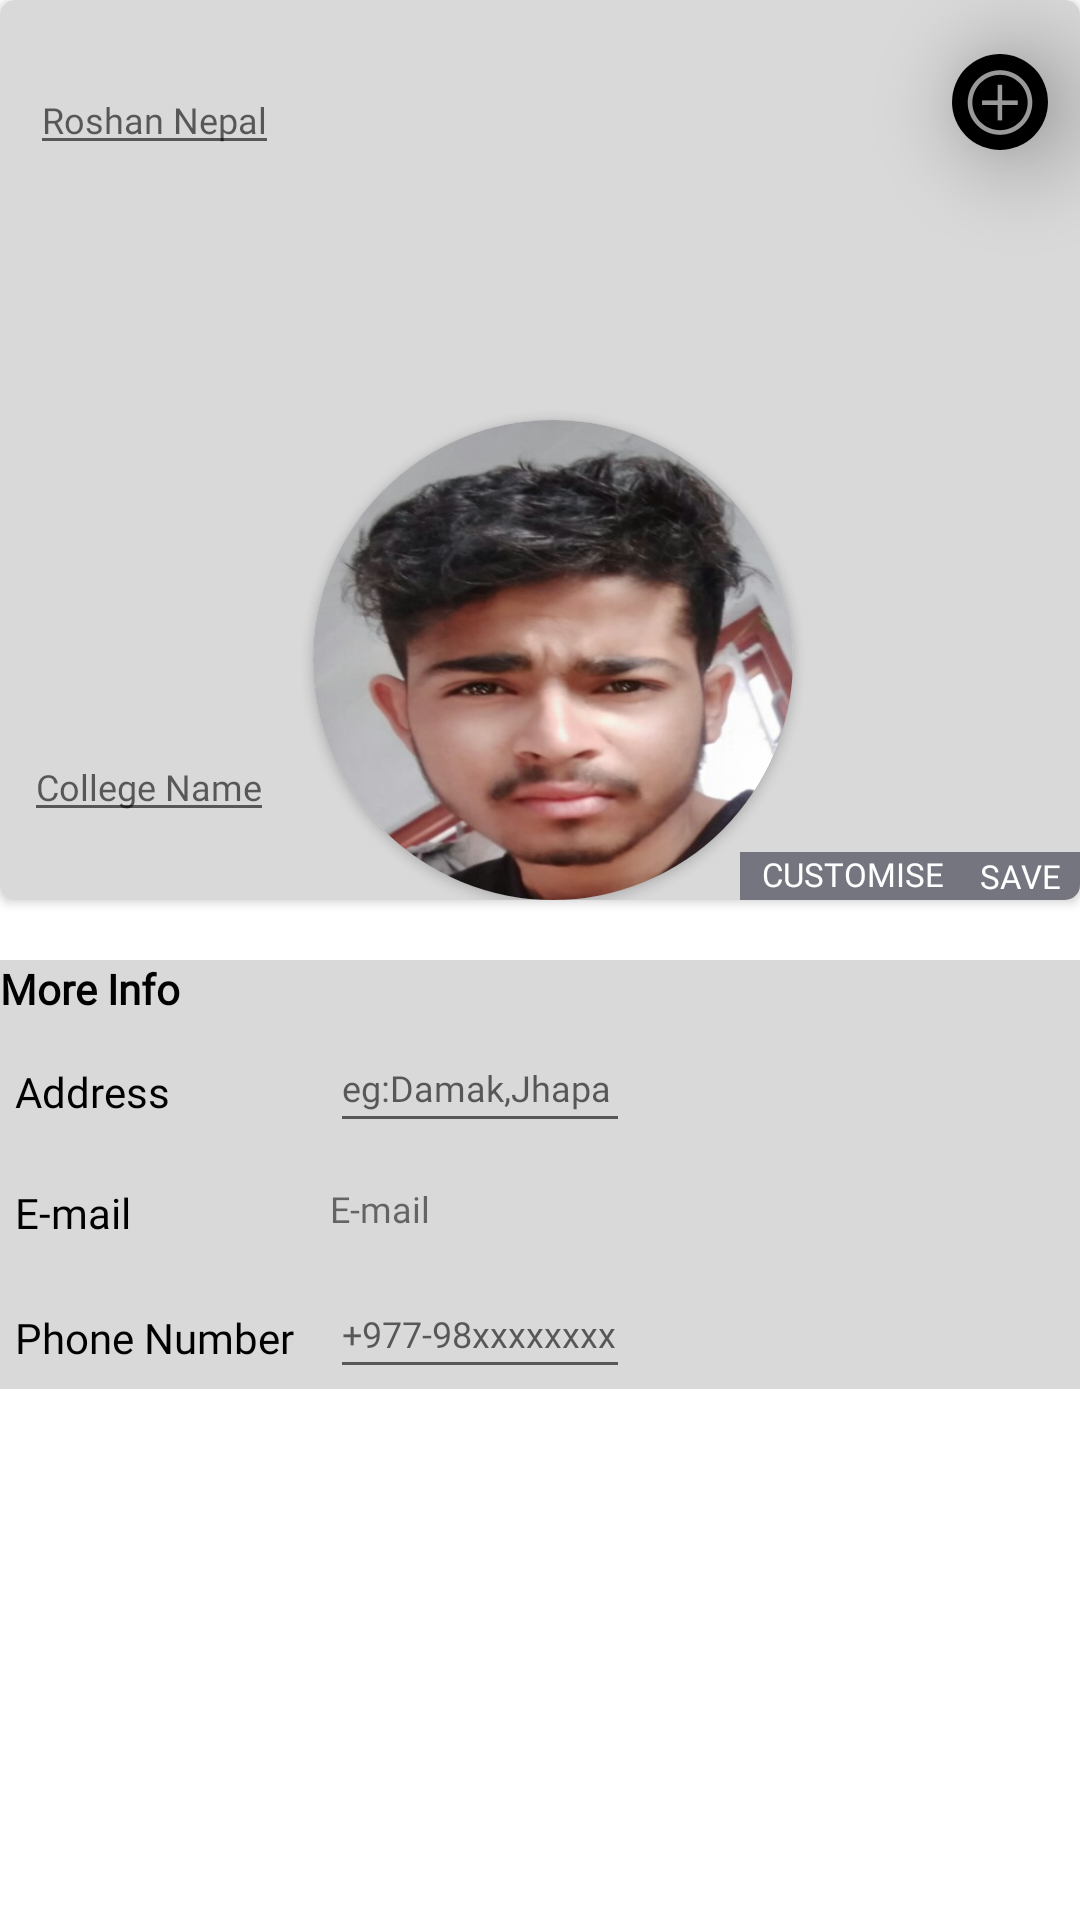

Where to tap for icons on this 1080w x 1920h app screen, as [x,y]:
Add Friend: [1000,102]
